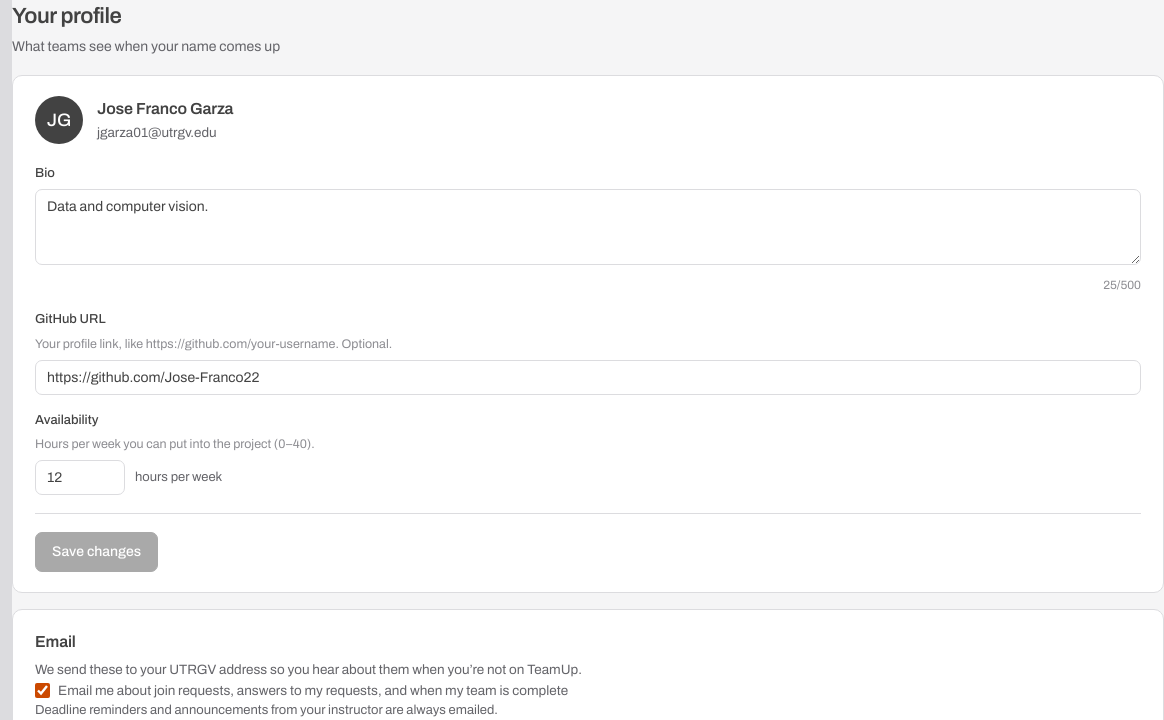
Scenario: saving › any other server error is shown on the form, not as a blank failure
Expected: the heading "Your profile" is shown, 12,4 -> 121,28
Type " more" into the text box labelled "Bio".
click(588, 226); type(" more")  # box 35,188 -> 1141,264
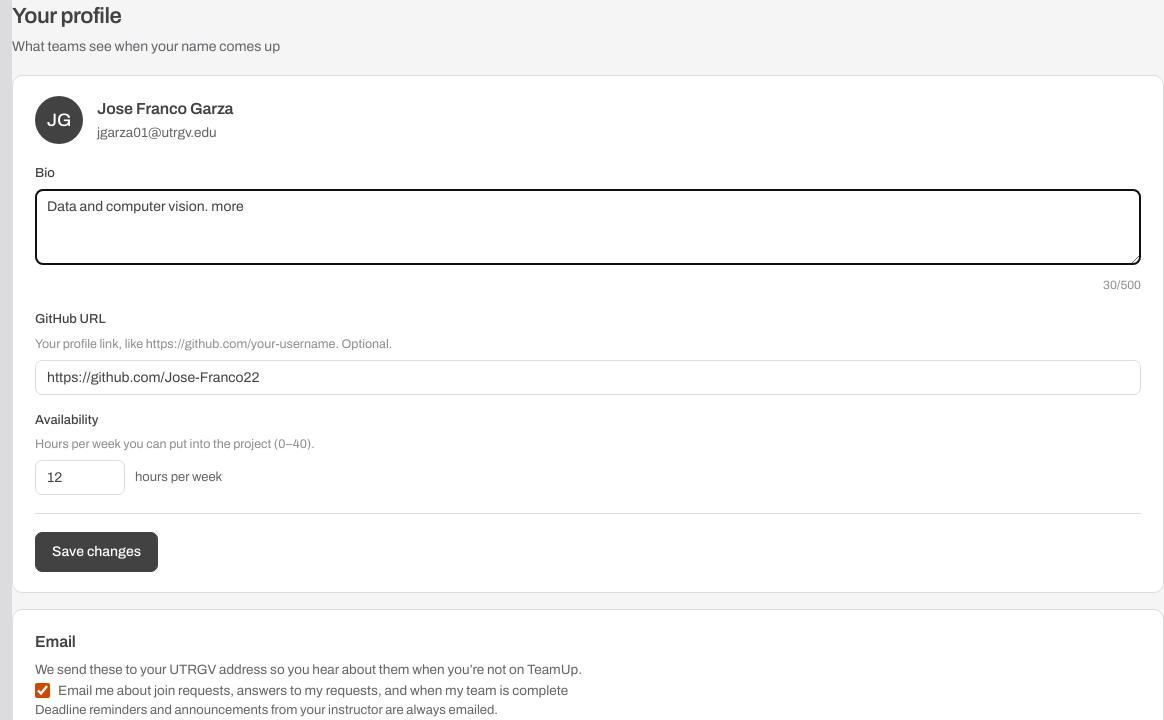
Click the button "Save changes".
click(97, 552)  # box 35,532 -> 158,572
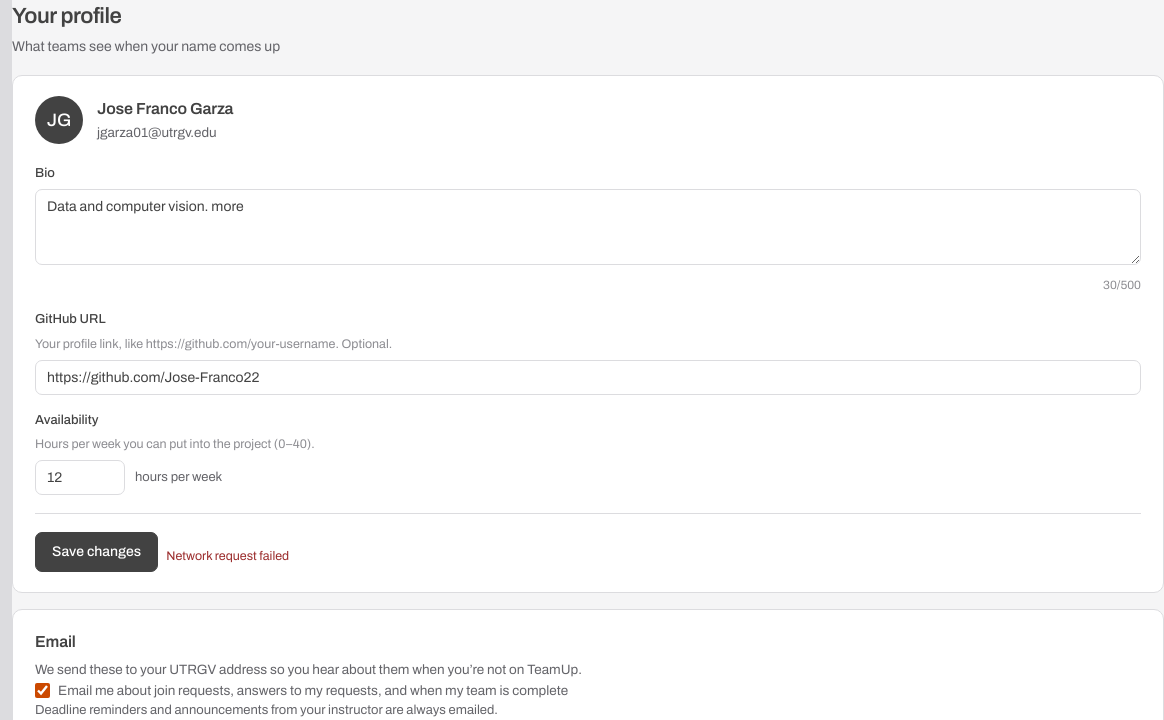
Expected: the message reads "Network request failed", 166,549 -> 289,563
